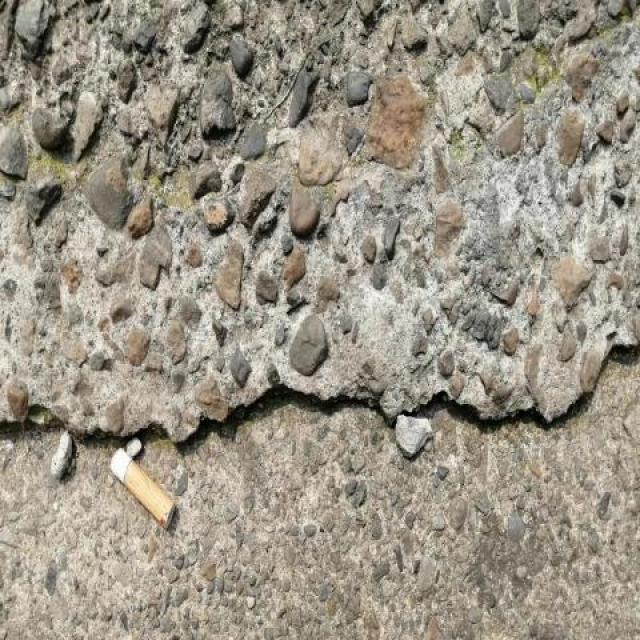non-organic waste: (104, 444, 179, 535)
